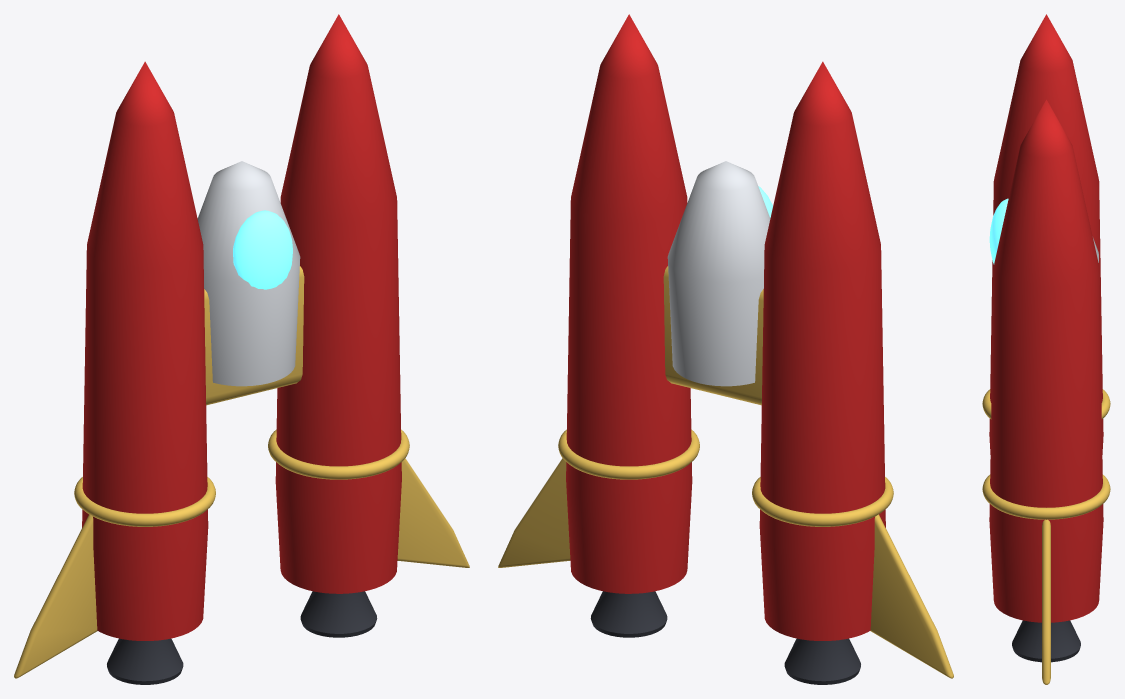
File: Rocket_29_Catamaran.fbx
The picture shows the model from 3 angles, left to right: view 1: azimuth 30°, elevation 25°; view 2: azimuth 150°, elevation 25°; view 3: azimuth 270°, elevation 25°; orthographic projection. The views are drawn at different scales.
Visible parts, largest first — view 1: R29_Hull_2, R29_Hull, R29_Pod, R29_HullFin_2, R29_HullFin, R29_Cockpit, R29_Nozzle, R29_Nozzle_2, R29_Bridge, R29_HullBand_2, R29_HullBand; view 2: R29_Hull_2, R29_Hull, R29_Pod, R29_HullFin_2, R29_HullFin, R29_Nozzle, R29_Nozzle_2, R29_Bridge, R29_HullBand_2, R29_HullBand; view 3: R29_Hull, R29_Hull_2, R29_Nozzle, R29_HullBand, R29_HullFin, R29_Cockpit, R29_HullBand_2.
Part boxes in pixels (bbox=[...]): R29_Hull_2: bbox=[82, 61, 208, 640]; R29_Hull: bbox=[275, 14, 401, 593]; R29_Pod: bbox=[197, 161, 300, 386]; R29_HullFin_2: bbox=[14, 514, 97, 678]; R29_HullFin: bbox=[397, 458, 469, 567]; R29_Cockpit: bbox=[233, 210, 292, 289]; R29_Nozzle: bbox=[300, 591, 377, 637]; R29_Nozzle_2: bbox=[107, 638, 183, 684]; R29_Bridge: bbox=[204, 266, 304, 405]; R29_HullBand_2: bbox=[74, 477, 215, 526]; R29_HullBand: bbox=[268, 429, 409, 479]; R29_Hull_2: bbox=[759, 61, 885, 640]; R29_Hull: bbox=[566, 14, 692, 593]; R29_Pod: bbox=[667, 161, 770, 386]; R29_HullFin_2: bbox=[870, 514, 953, 678]; R29_HullFin: bbox=[498, 458, 570, 567]; R29_Nozzle: bbox=[590, 591, 667, 637]; R29_Nozzle_2: bbox=[784, 638, 860, 684]; R29_Bridge: bbox=[663, 266, 763, 405]; R29_HullBand_2: bbox=[752, 477, 893, 526]; R29_HullBand: bbox=[558, 429, 699, 479]; R29_Hull: bbox=[989, 99, 1103, 622]; R29_Hull_2: bbox=[989, 14, 1103, 454]; R29_Nozzle: bbox=[1012, 620, 1080, 662]; R29_HullBand: bbox=[982, 474, 1110, 519]; R29_HullFin: bbox=[1042, 519, 1050, 684]; R29_Cockpit: bbox=[989, 198, 1008, 264]; R29_HullBand_2: bbox=[982, 389, 1110, 419].
Size of the model in its own units: 5.4 by 6.9 by 1.46.
